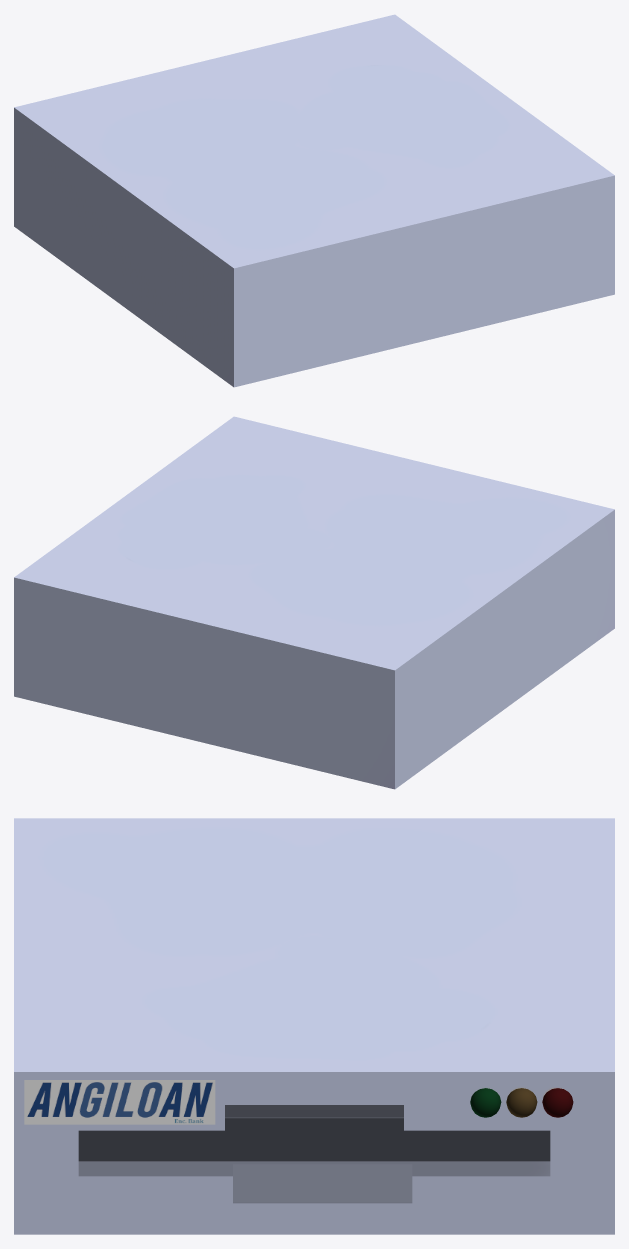
Rendered from FloppyCartridge.glb.
3 renders of one model, top to bottom at view 1: azimuth 30°, elevation 25°; view 2: azimuth 150°, elevation 25°; view 3: azimuth 270°, elevation 25°, orthographic. The views are drawn at different scales.
Parts seen in each view (by area): view 1: Cube; view 2: Cube; view 3: Cube, angiloan, ilaw greenpatay, ilaw redpatay, ilaw yellowpatay.
Boxes of the visible parts, x1,y1,x2,y2 form: Cube: (14,14,614,387); Cube: (14,416,614,789); Cube: (14,818,614,1234); angiloan: (24,1080,215,1124); ilaw greenpatay: (470,1088,501,1117); ilaw redpatay: (542,1088,573,1117); ilaw yellowpatay: (506,1088,537,1117).
Bounding box in the file's own units: 2.05 × 0.5973 × 2.
Materials: 5 (2 with a texture image).
